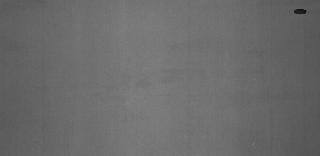punching hole: (293, 7, 309, 15)
